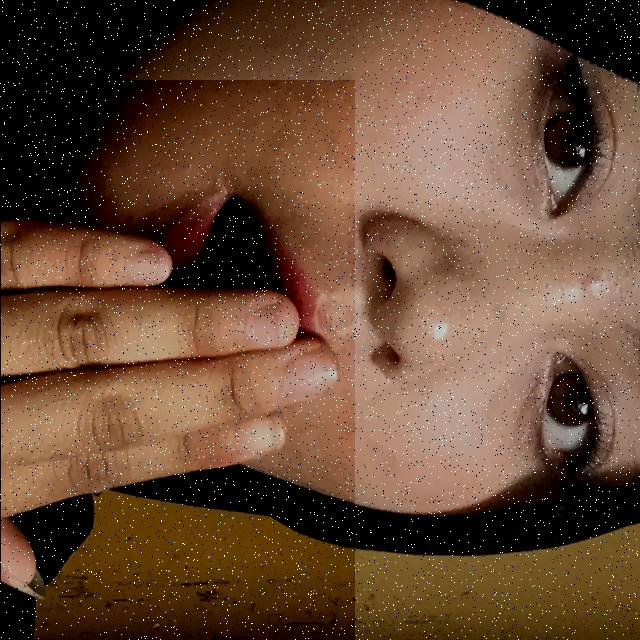ngantuk: (0, 80, 354, 640)
